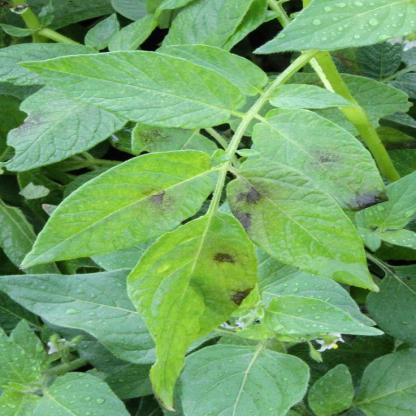Potato leaf late blight: (131, 215, 265, 412), (219, 151, 390, 293), (33, 147, 219, 255), (240, 105, 397, 217)
